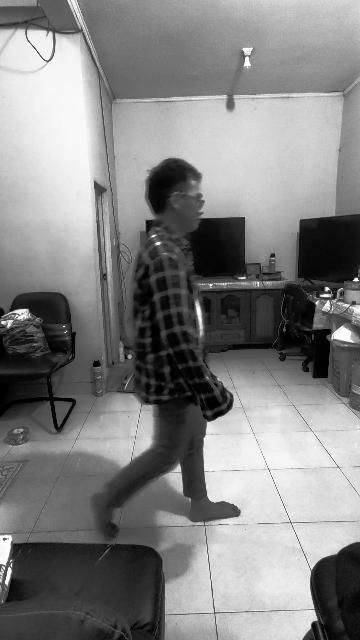berjalan: (81, 158, 239, 534)
